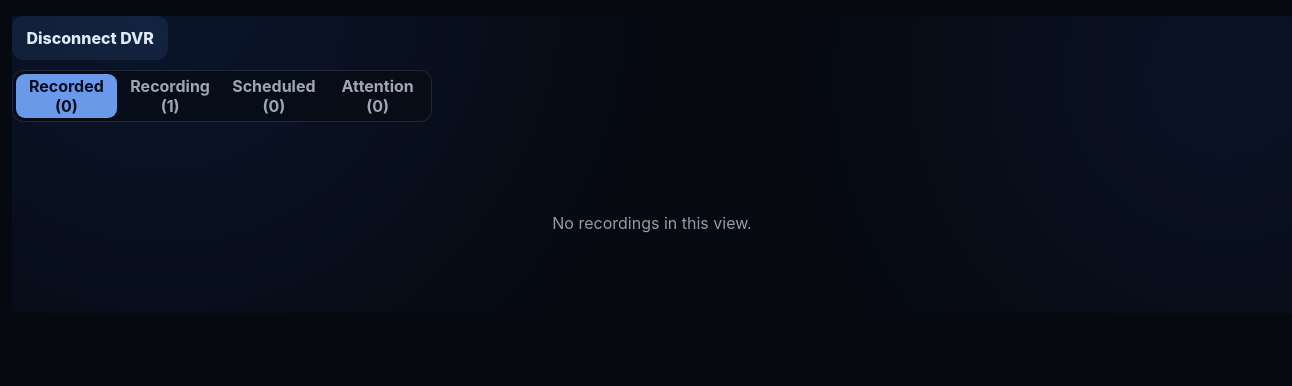
DVR foundation › never offers unfinished playback or view-only delete actions
Click the button "Recording (1)".
click(170, 96)  # box [120,74,221,118]
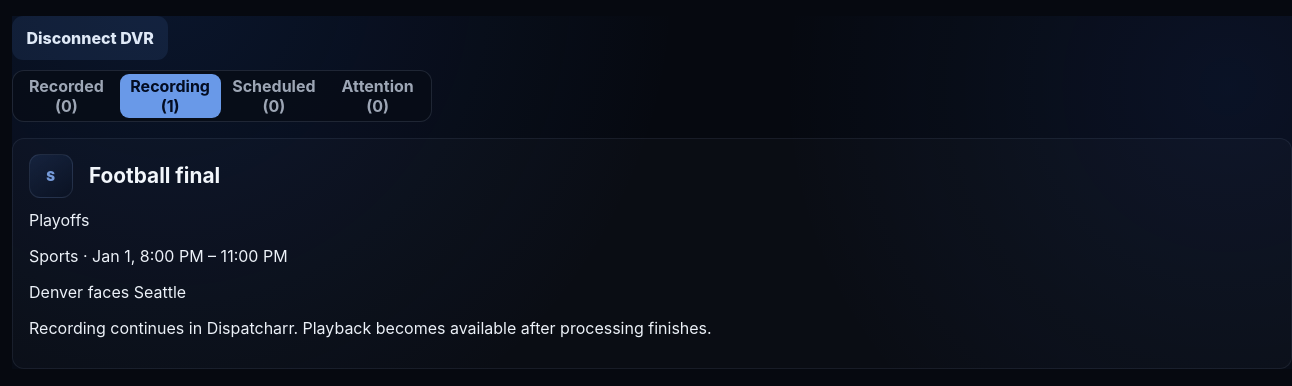
Check: the text "Playback becomes available after processing" is shown, box [29,318,712,338]
